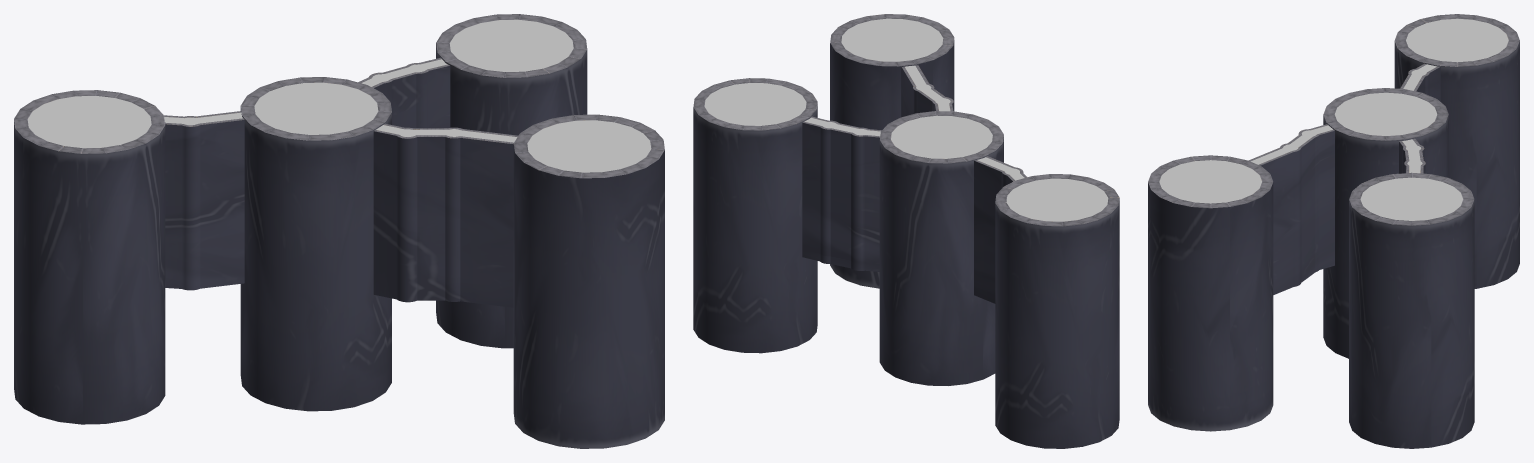
The model's file is Hero_Taurus_Floor.fbx.
3 renders of one model, left to right at view 1: azimuth 30°, elevation 25°; view 2: azimuth 150°, elevation 25°; view 3: azimuth 270°, elevation 25°, orthographic. The views are drawn at different scales.
Parts seen in each view (by area): view 1: polySurface19, polySurface16, polySurface18, polySurface20, polySurface17, polySurface22, polySurface21; view 2: polySurface19, polySurface17, polySurface18, polySurface16, polySurface21, polySurface22, polySurface20; view 3: polySurface16, polySurface17, polySurface19, polySurface18, polySurface20, polySurface22, polySurface21.
Part boxes in pixels (bbox=[...]): polySurface19: bbox=[14, 90, 165, 424]; polySurface16: bbox=[513, 114, 664, 448]; polySurface18: bbox=[240, 77, 391, 411]; polySurface20: bbox=[373, 123, 517, 307]; polySurface17: bbox=[436, 14, 587, 348]; polySurface22: bbox=[164, 111, 244, 290]; polySurface21: bbox=[358, 57, 450, 128]; polySurface19: bbox=[995, 174, 1119, 448]; polySurface17: bbox=[693, 78, 817, 353]; polySurface18: bbox=[879, 111, 1003, 385]; polySurface16: bbox=[830, 14, 954, 288]; polySurface21: bbox=[802, 116, 881, 271]; polySurface22: bbox=[974, 156, 1027, 303]; polySurface20: bbox=[901, 65, 953, 117]; polySurface16: bbox=[1148, 155, 1273, 431]; polySurface17: bbox=[1349, 172, 1474, 448]; polySurface19: bbox=[1394, 14, 1519, 288]; polySurface18: bbox=[1323, 88, 1448, 358]; polySurface20: bbox=[1248, 124, 1334, 294]; polySurface22: bbox=[1400, 63, 1440, 101]; polySurface21: bbox=[1399, 138, 1425, 173].
Bounding box in the file's own units: 162 × 79.8 × 120.
